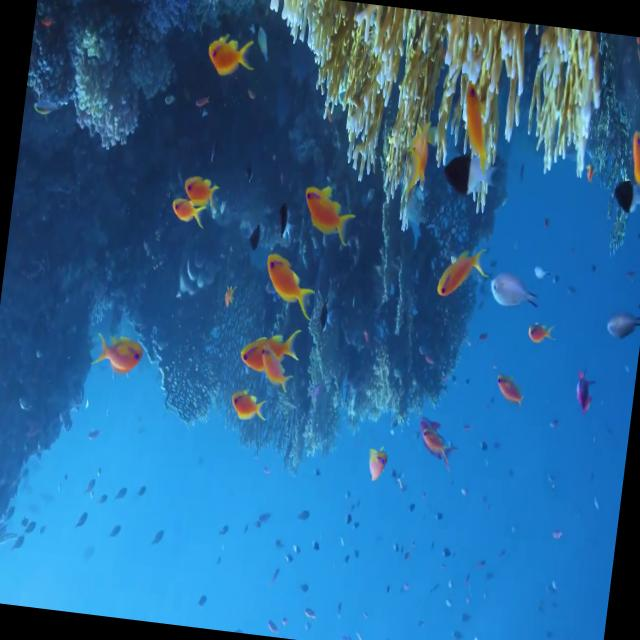fish: (454, 68, 504, 180), (298, 176, 364, 254), (258, 246, 320, 326), (436, 230, 494, 298), (240, 327, 302, 388), (206, 28, 258, 82), (488, 266, 545, 312), (94, 326, 144, 377)
